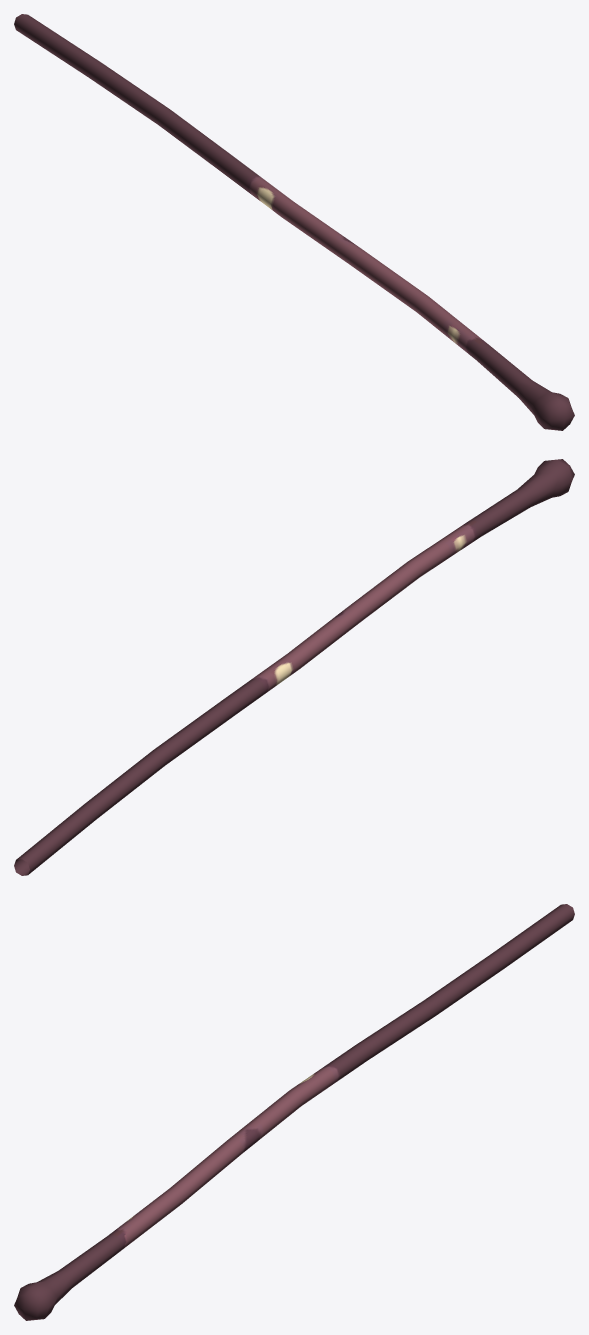
The model's file is TongueAttack.fbx.
3 renders of one model, top to bottom at view 1: azimuth 30°, elevation 25°; view 2: azimuth 150°, elevation 25°; view 3: azimuth 330°, elevation 25°, orthographic.
Parts seen in each view (by area): view 1: Tongue; view 2: Tongue; view 3: Tongue.
Part boxes in pixels (x1=…): Tongue: x1=14, y1=14, x2=574, y2=430; Tongue: x1=14, y1=459, x2=574, y2=875; Tongue: x1=14, y1=904, x2=574, y2=1320.
Bounding box in the file's own units: 0.2269 × 0.2391 × 6.66.
